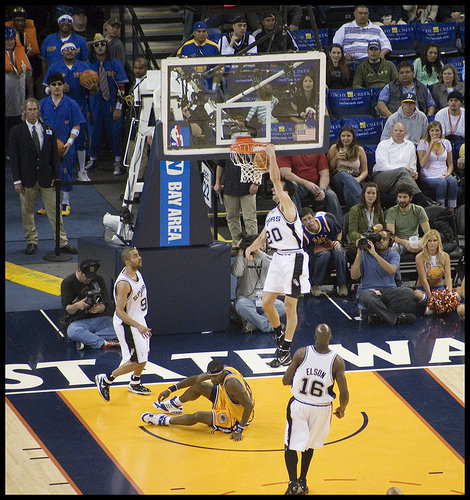basketball: (254, 151, 273, 171)
